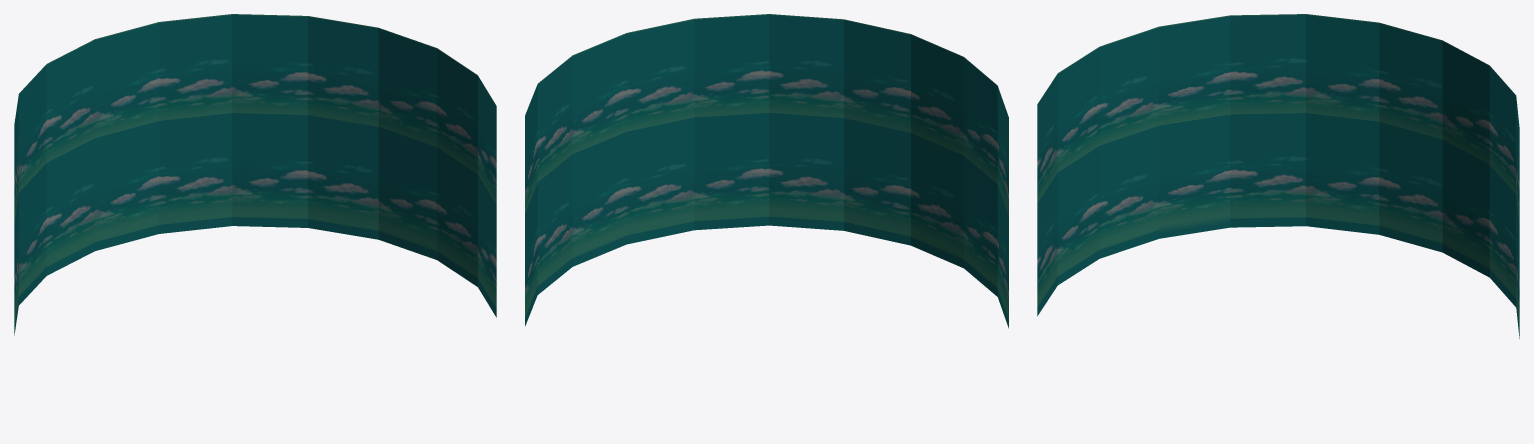
Rendered from vrcorn.glb.
The picture shows the model from 3 angles, left to right: view 1: azimuth 30°, elevation 25°; view 2: azimuth 150°, elevation 25°; view 3: azimuth 270°, elevation 25°; orthographic projection.
Visible parts, largest first — view 1: polygon0; view 2: polygon0; view 3: polygon0.
Part boxes in pixels (x1,y1,x2,y2): polygon0: [14, 14, 496, 335]; polygon0: [525, 14, 1008, 328]; polygon0: [1037, 14, 1519, 338].
Size of the model in its own units: 3126 by 1736 by 3126.
Materials: 1 (1 with a texture image).
